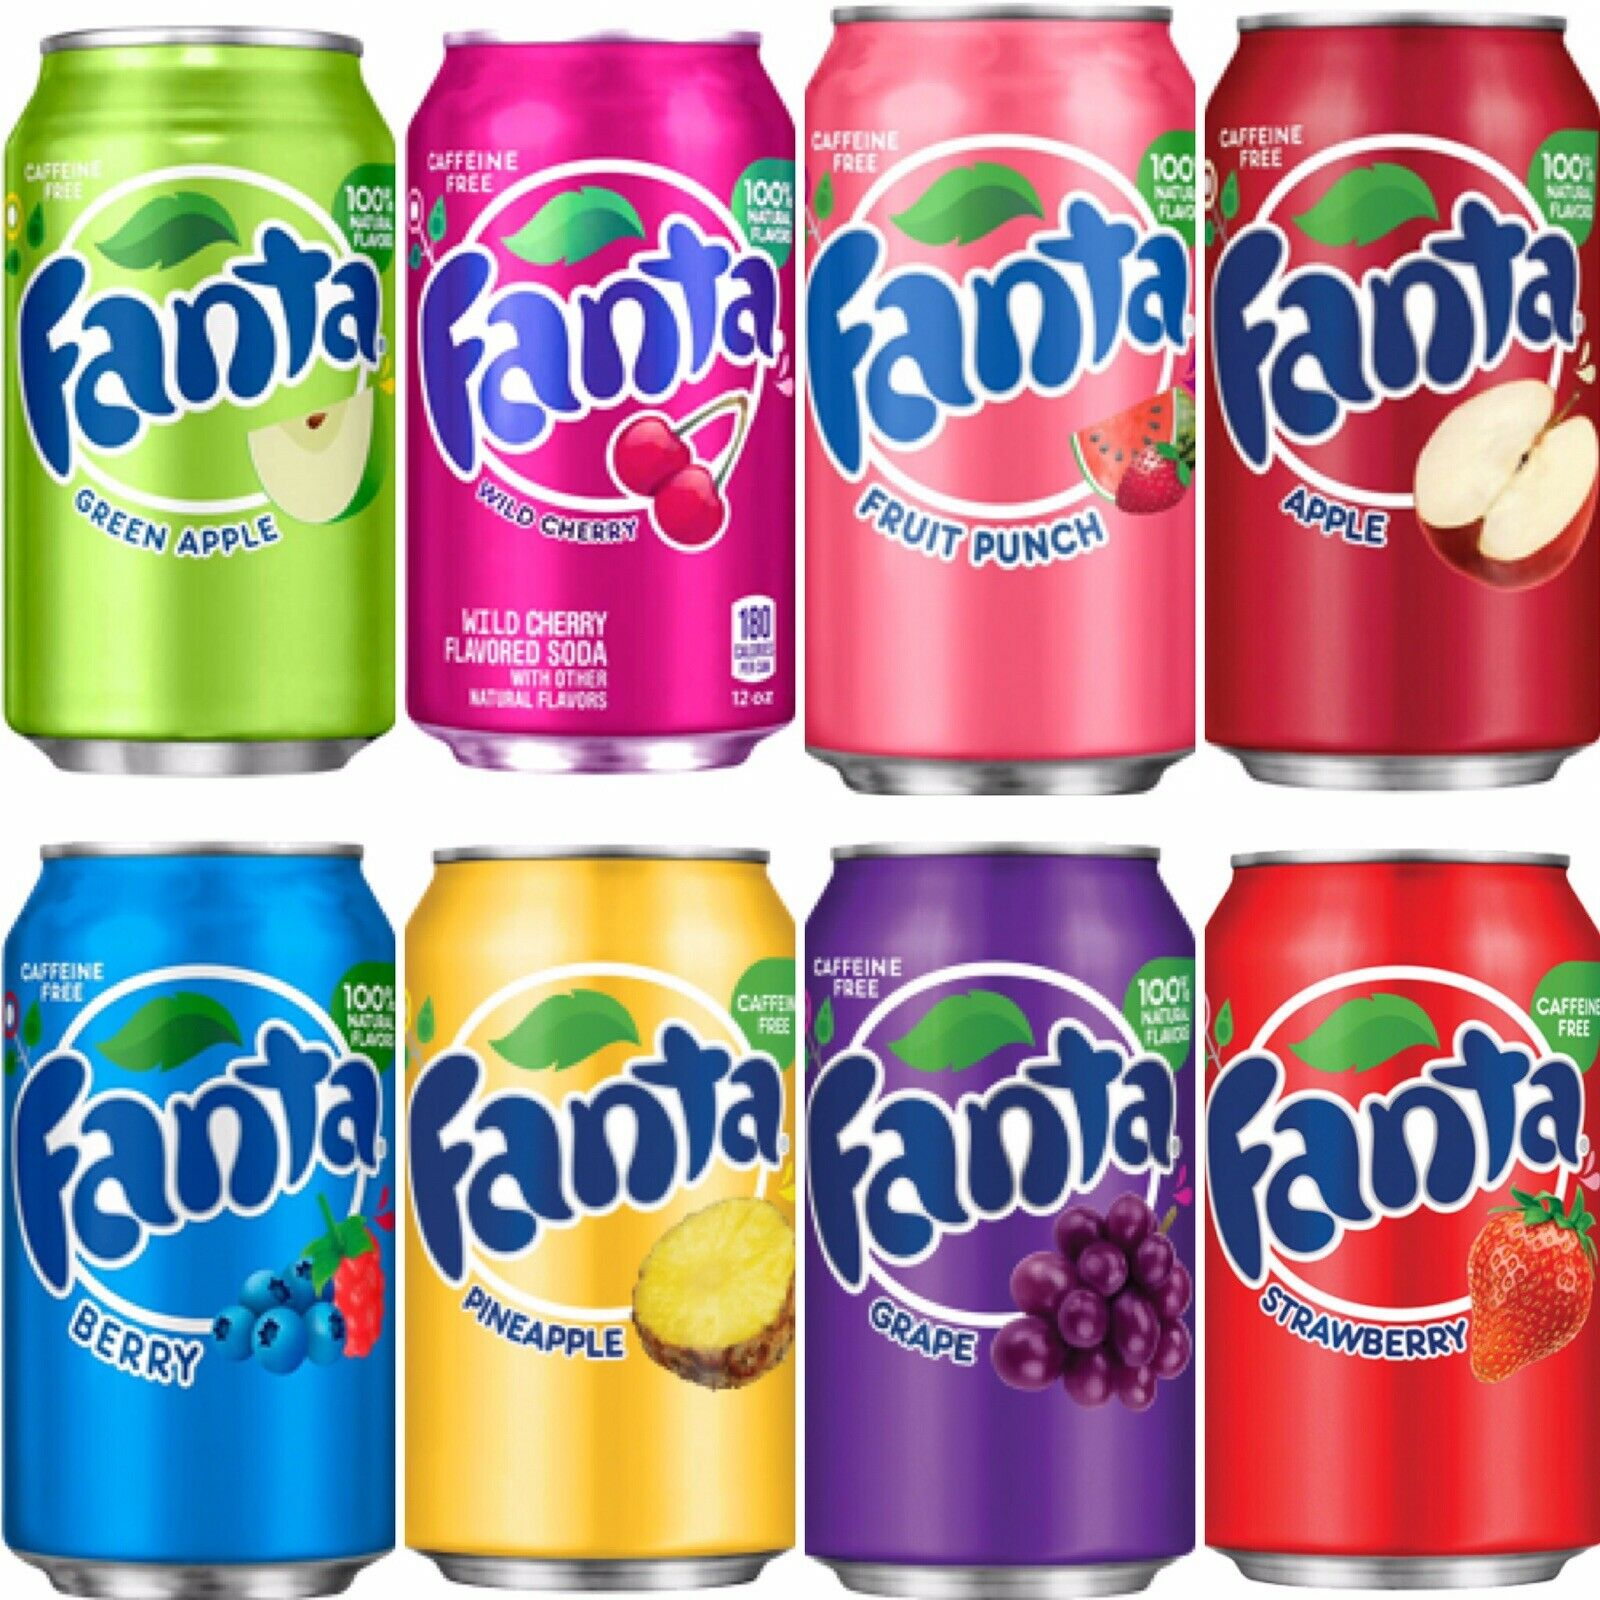Fanta: (1188, 800, 1600, 1563)
